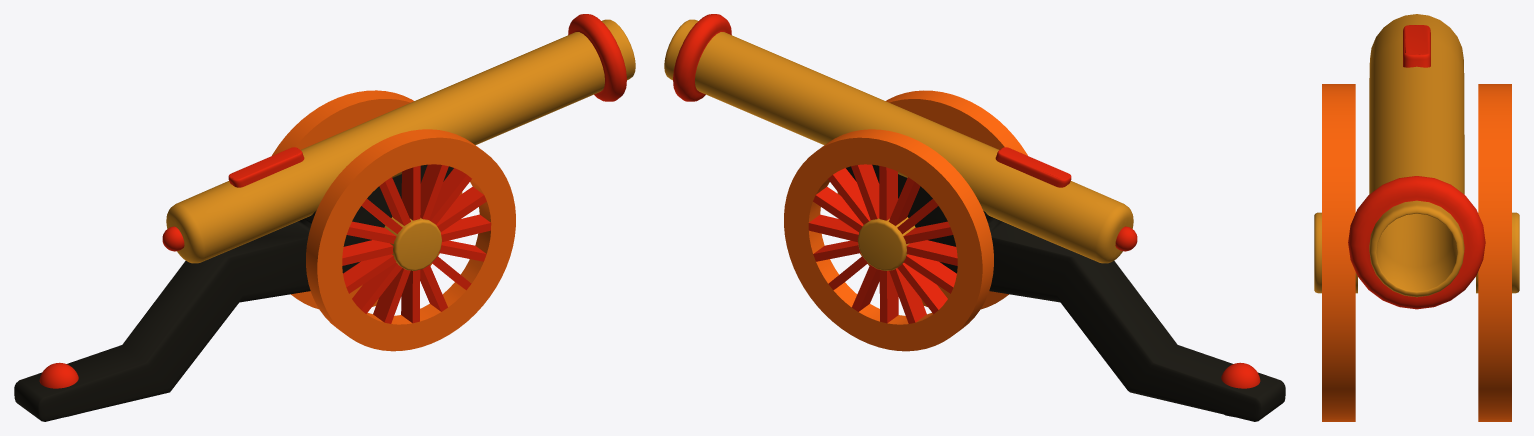
3 renders of one model, left to right at view 1: azimuth 30°, elevation 25°; view 2: azimuth 150°, elevation 25°; view 3: azimuth 270°, elevation 25°, orthographic. The views are drawn at different scales.
Visible parts, largest first — view 1: Line027, Box018, Tube030, Group091, Tube031, Group134, Cylinder066, Box029, Sphere075; view 2: Line027, Box018, Tube031, Group092, Tube030, Group134, Cylinder067, Box029, Sphere075; view 3: Line027, Tube031, Tube030, Group134, Box029, Cylinder067, Cylinder066.
Boxes of the visible parts, bbox=[...] form: Line027: bbox=[166, 19, 635, 263]; Box018: bbox=[14, 164, 453, 421]; Tube030: bbox=[306, 129, 515, 351]; Group091: bbox=[342, 164, 491, 323]; Tube031: bbox=[272, 90, 462, 309]; Group134: bbox=[568, 14, 626, 101]; Cylinder066: bbox=[384, 217, 441, 270]; Box029: bbox=[228, 147, 304, 187]; Sphere075: bbox=[39, 362, 78, 388]; Line027: bbox=[664, 19, 1133, 263]; Box018: bbox=[846, 164, 1285, 421]; Tube031: bbox=[784, 129, 993, 351]; Group092: bbox=[808, 164, 957, 323]; Tube030: bbox=[837, 90, 1027, 309]; Group134: bbox=[673, 14, 731, 101]; Cylinder067: bbox=[858, 217, 915, 270]; Box029: bbox=[995, 147, 1071, 187]; Sphere075: bbox=[1221, 362, 1260, 388]; Line027: bbox=[1369, 14, 1464, 297]; Tube031: bbox=[1478, 84, 1511, 421]; Tube030: bbox=[1322, 84, 1355, 421]; Group134: bbox=[1348, 176, 1485, 309]; Box029: bbox=[1403, 25, 1430, 67]; Cylinder067: bbox=[1476, 212, 1519, 293]; Cylinder066: bbox=[1314, 212, 1357, 293].
Size of the model in its own units: 72.27 by 30.04 by 14.6.
